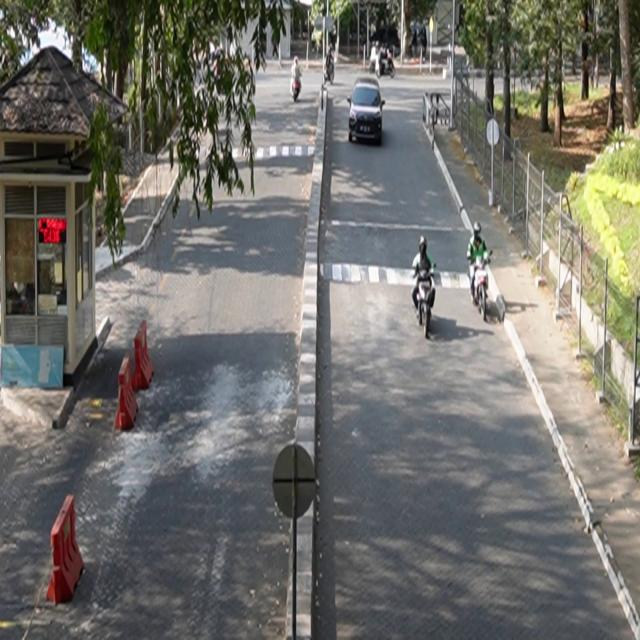car: (348, 80, 387, 146)
